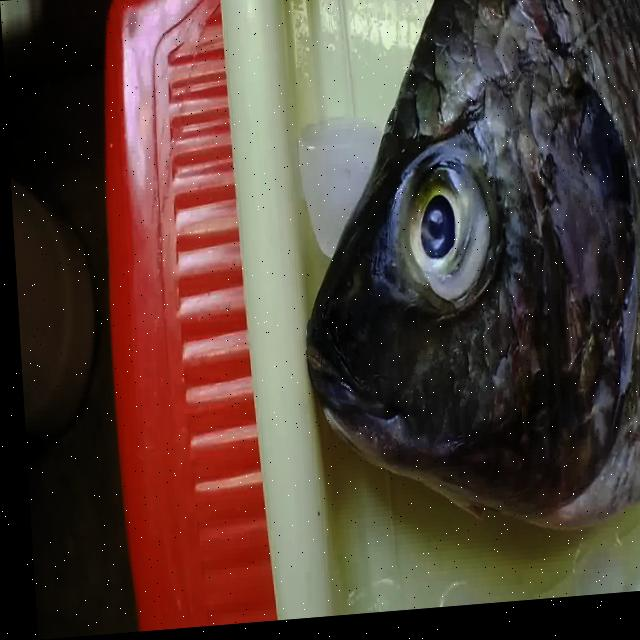Fresh: (368, 94, 523, 341)
